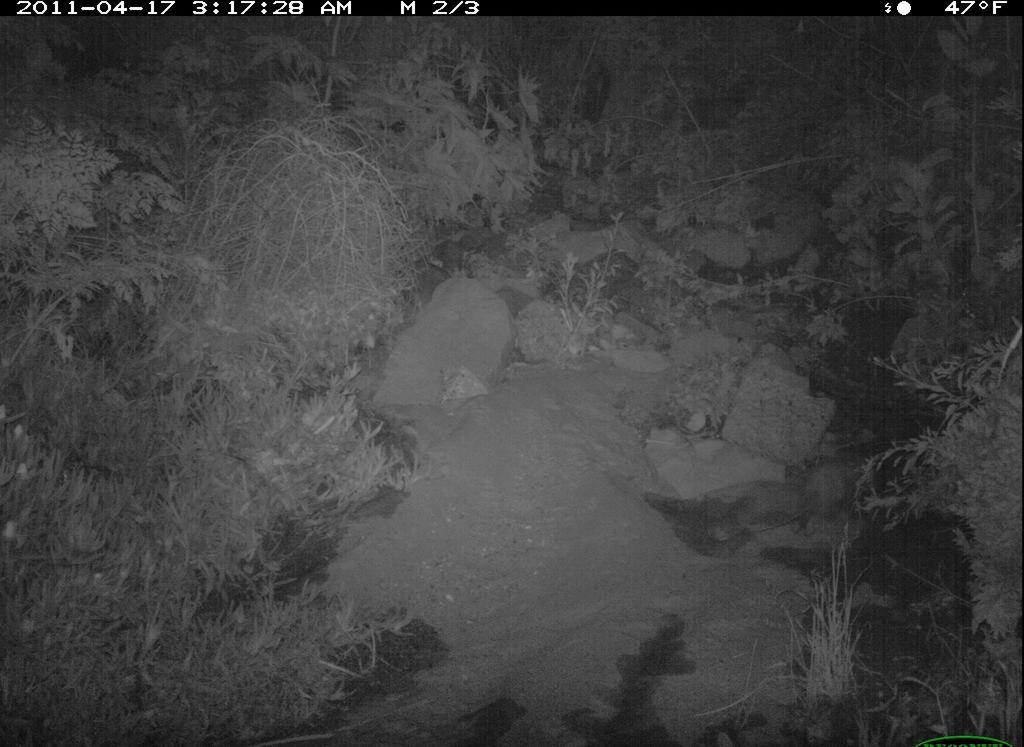opossum: (763, 451, 877, 533)
